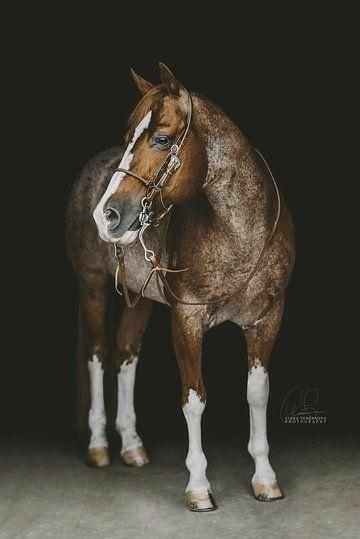horse: (95, 60, 297, 512)
